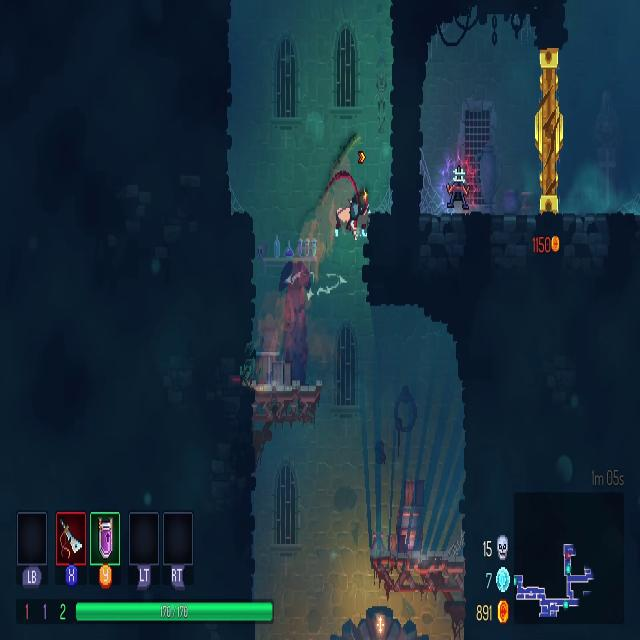agents: (344, 190, 370, 240)
wood_floor: (371, 539, 466, 603), (251, 375, 326, 424)
